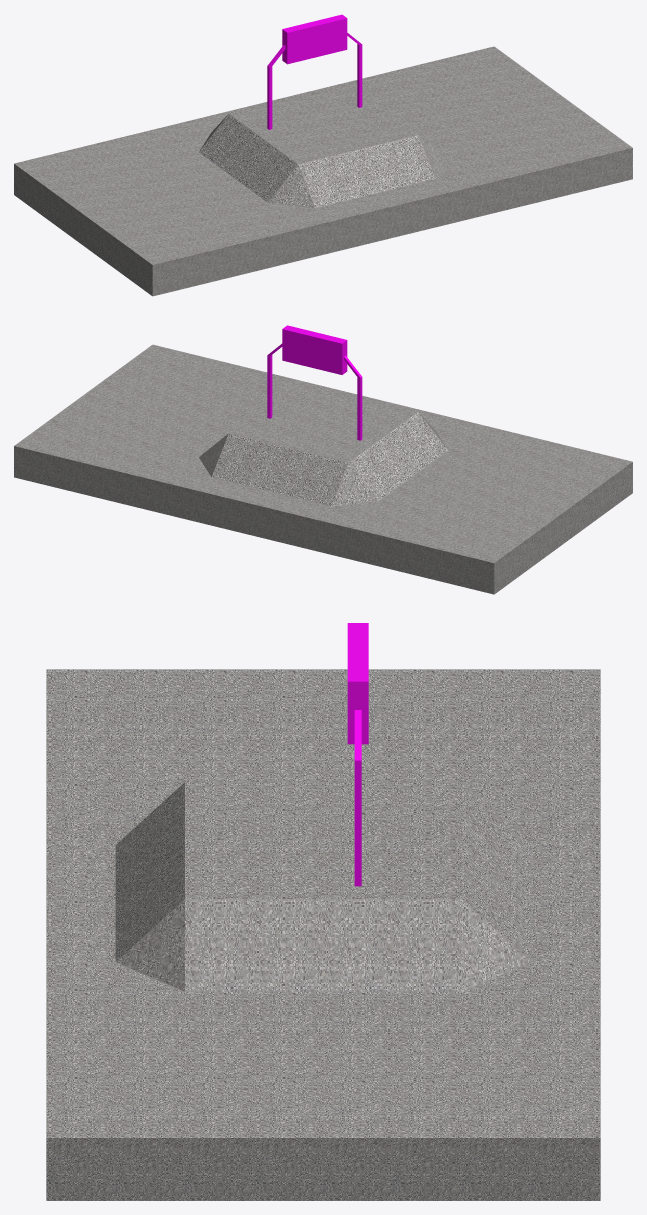
The model's file is end_of_level.gltf.
3 renders of one model, top to bottom at view 1: azimuth 30°, elevation 25°; view 2: azimuth 150°, elevation 25°; view 3: azimuth 270°, elevation 25°, orthographic. The views are drawn at different scales.
Visible parts, largest first — view 1: map; view 2: map; view 3: map.
Part boxes in pixels (x1,y1,x2,y2): map: (14,14,632,296); map: (14,325,632,594); map: (46,623,600,1200).
Size of the model in its own units: 32 by 10 by 16.
Materials: 2 (2 with a texture image).
